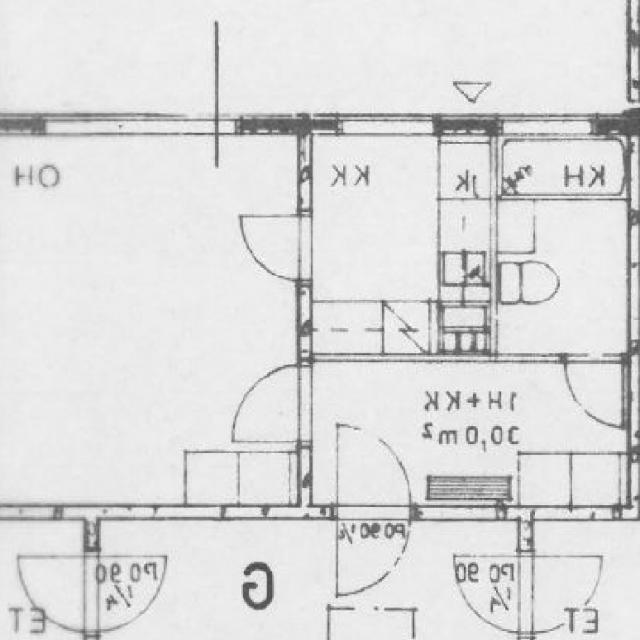door: (336, 503, 412, 602), (336, 422, 412, 520), (230, 367, 312, 440), (238, 214, 312, 279), (568, 354, 624, 422)
